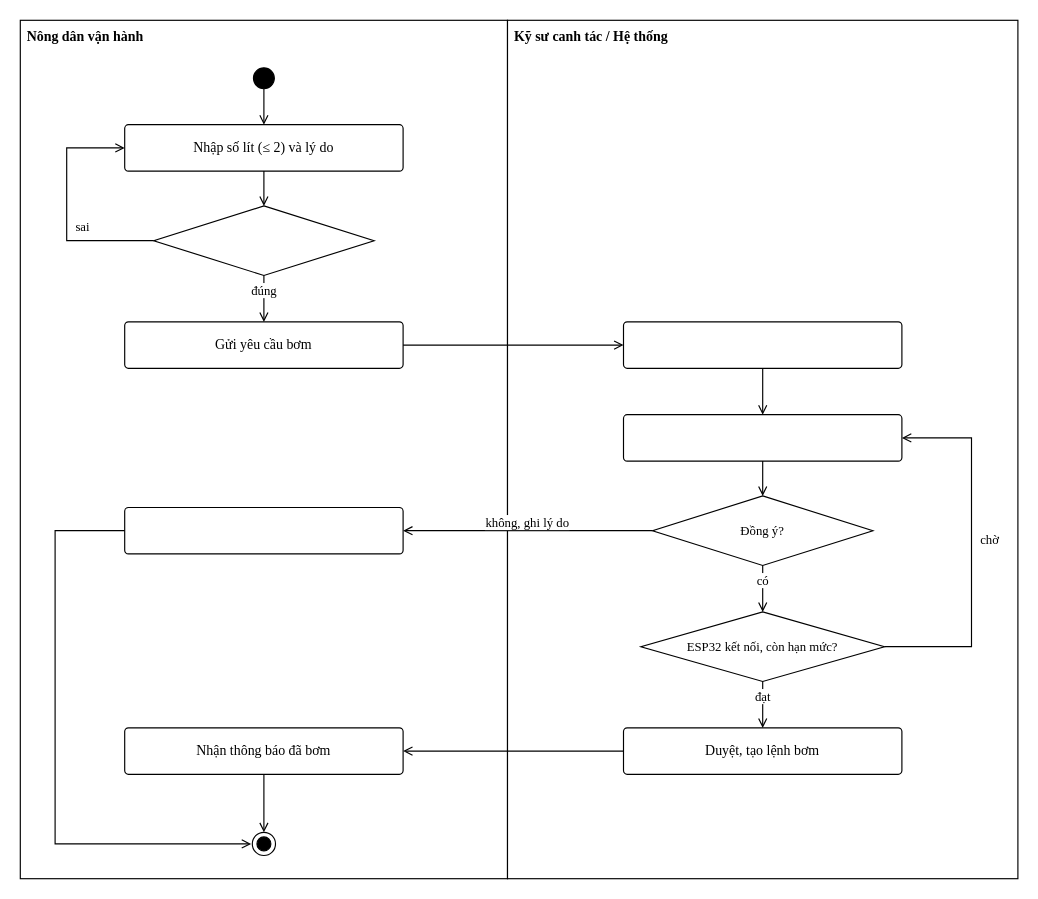
The diagram is 1038 pixels wide and 899 high, and some of its shapes have lost their labels. Here are the shapes that lost their labels. From the top down, the centre of each, then its label:
At point 263,240: "Lý do ≥ 10 ký tự?".
At point 762,344: "Lưu yêu cầu PENDING".
At point 762,437: "Xem yêu cầu chờ duyệt".
At point 263,530: "Nhận thông báo từ chối".
